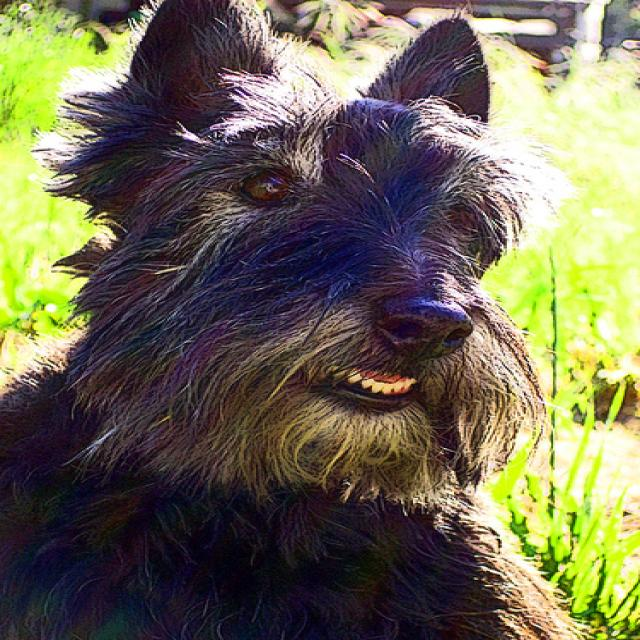dog-scottish_terrier: (2, 1, 580, 637)
